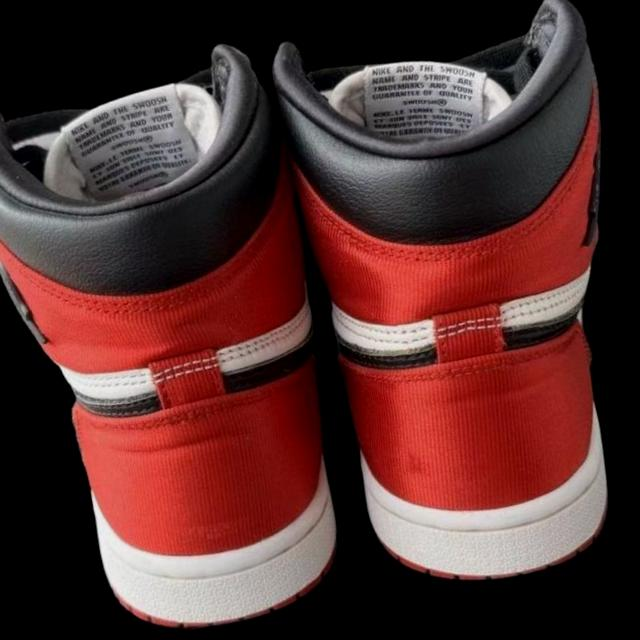nike_original_jordan: (263, 0, 640, 604), (0, 38, 377, 640)
